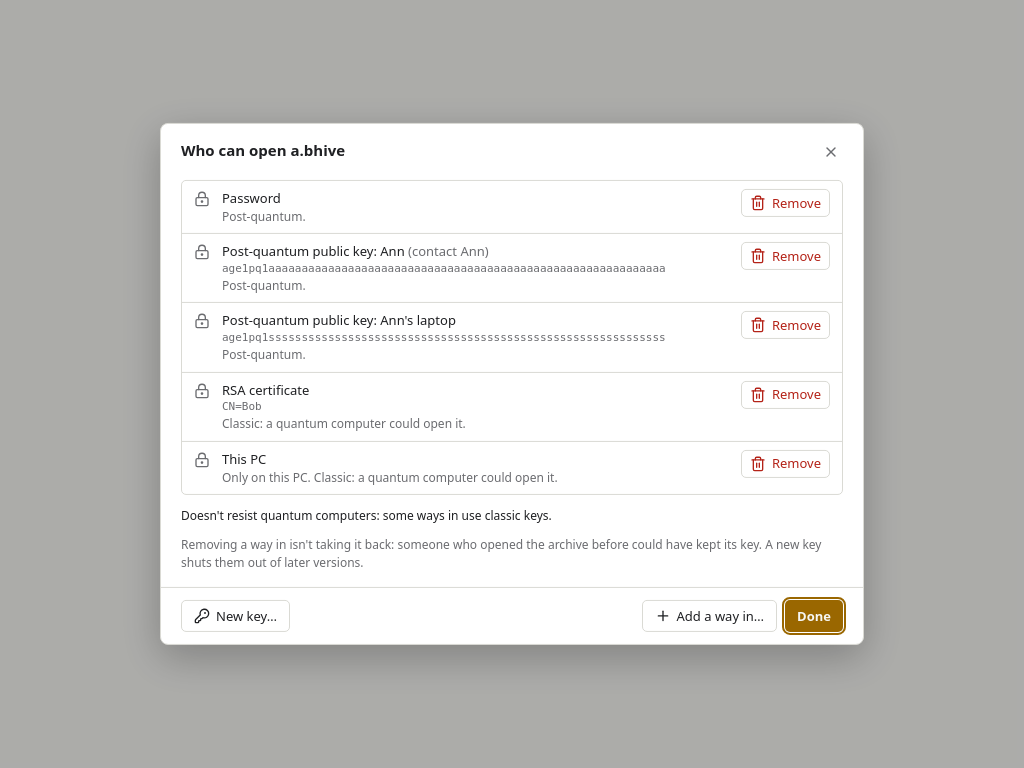
Scenario: who can open an encrypted .bhive (docs/M14.md §3, §8) › lists the ways in, with the archive's password, and removes one
The image size is (1024, 768).
Expected: the number of list items is 5, [182,181,842,234]; [182,234,842,303]; [182,303,842,372]; [182,372,842,442]; [182,442,842,494]
Expected: the list named "Ways in" shows "Only on this PC.", [222,468,314,486]
Click the button with aria-label "Remove RSA certificate".
click(785, 394)  # box [741,380,830,408]
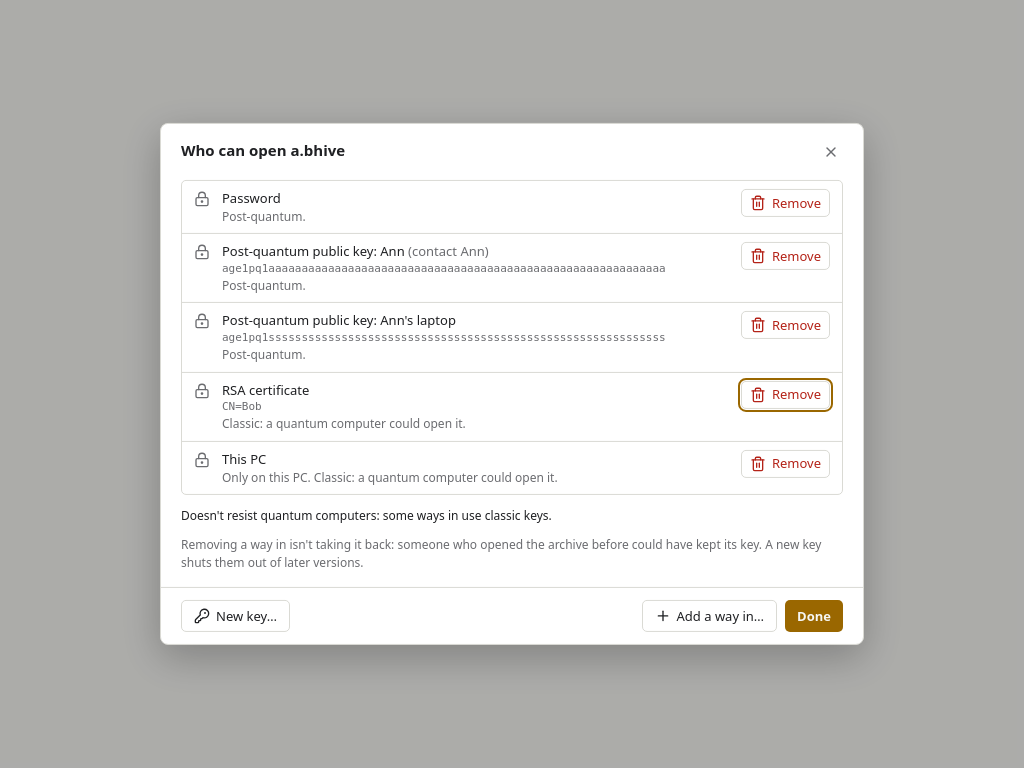
Click the button with aria-label "Remove RSA certificate".
click(785, 394)  # box [741,380,830,408]
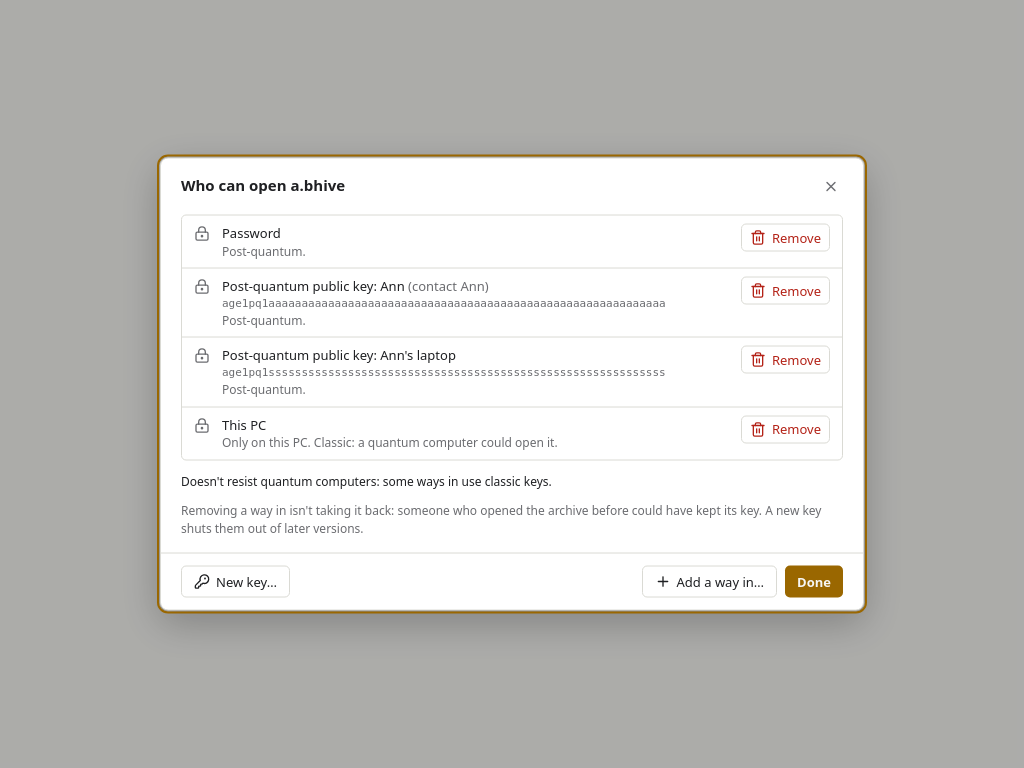
Result: the number of list items is 4 at [182,216,842,269]; [182,269,842,338]; [182,338,842,407]; [182,407,842,459]
